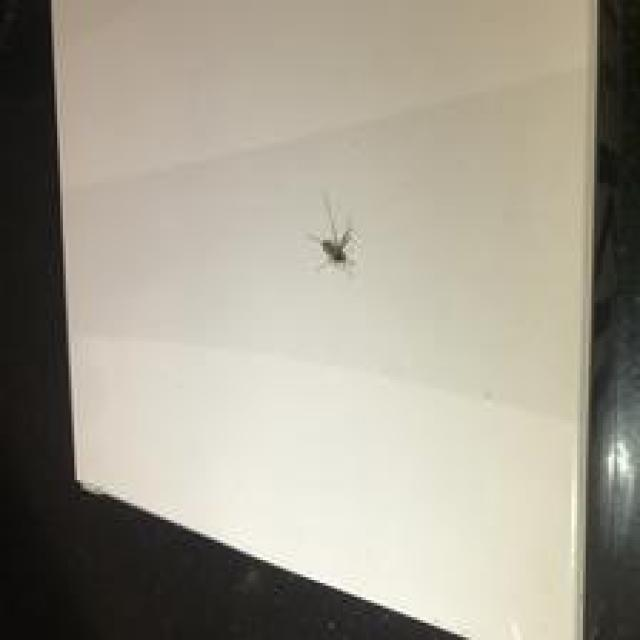Culex: (307, 193, 359, 273)
